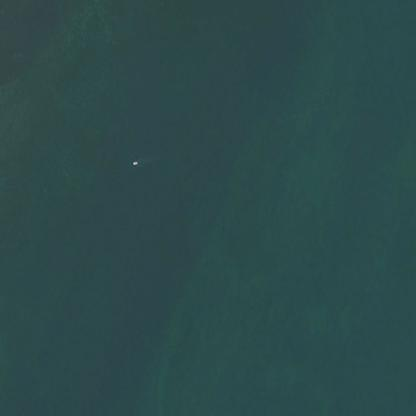ship: (131, 159, 136, 167)
